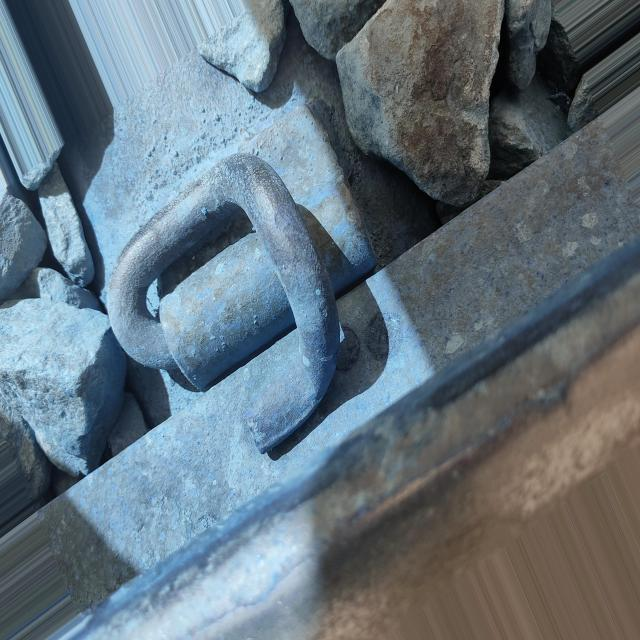Good Fasteners: (110, 161, 299, 386), (237, 296, 342, 459), (299, 172, 372, 296)
